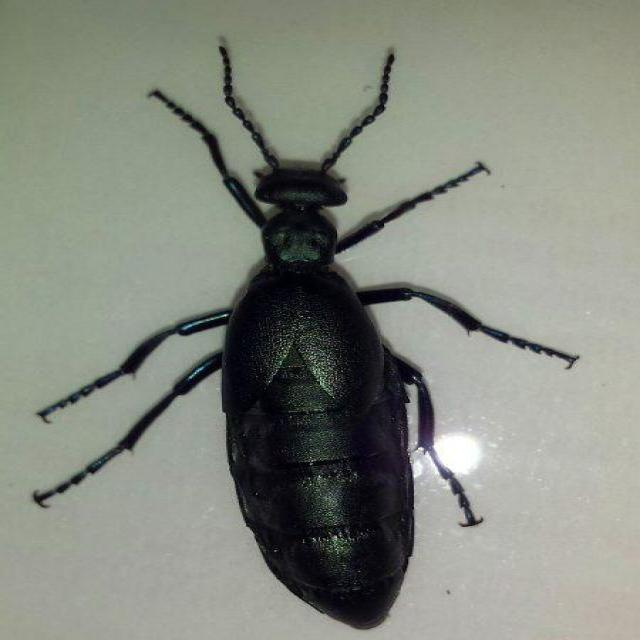BlisterBeetle-Adult-: (84, 40, 544, 630)
